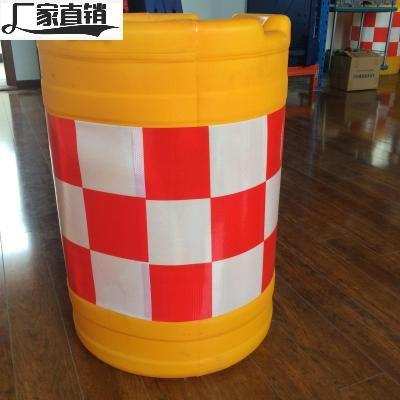sign: (31, 7, 287, 369)
